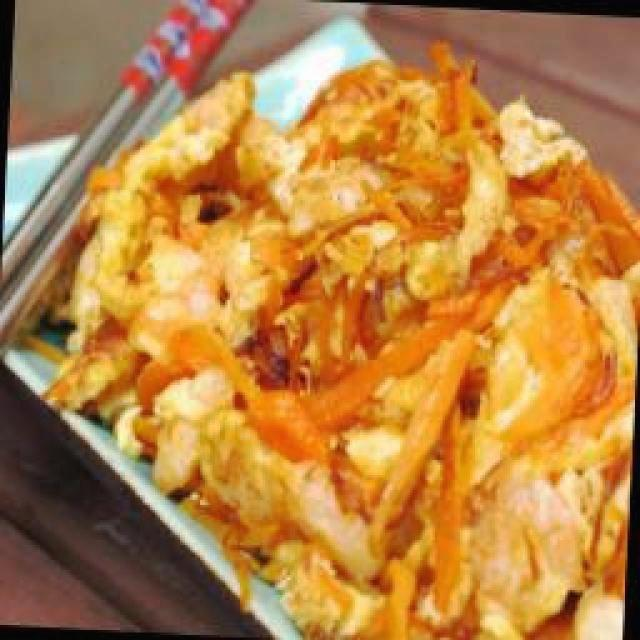carrot_eggs: (41, 48, 638, 623)
